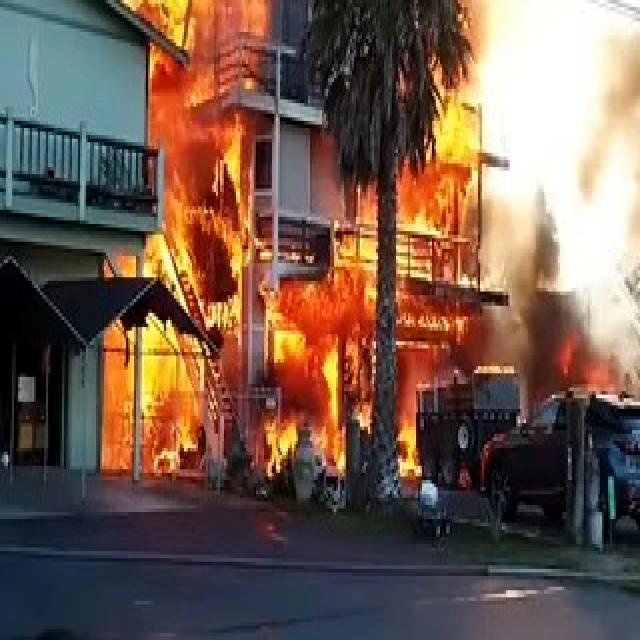fire: (114, 0, 268, 452), (265, 271, 334, 454), (413, 105, 468, 268)
smoke: (502, 184, 584, 366)
